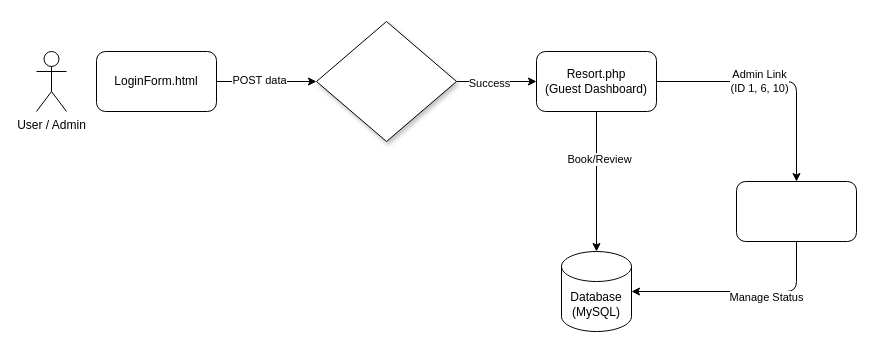
The diagram is 874 pixels wide and 349 high, and some of its shapes have lost their labels. The centre of each missing label's shape, as x and y in pixels:
Admin.php (Ops Control): the point at 796,211
login_process.php: the point at 387,82
